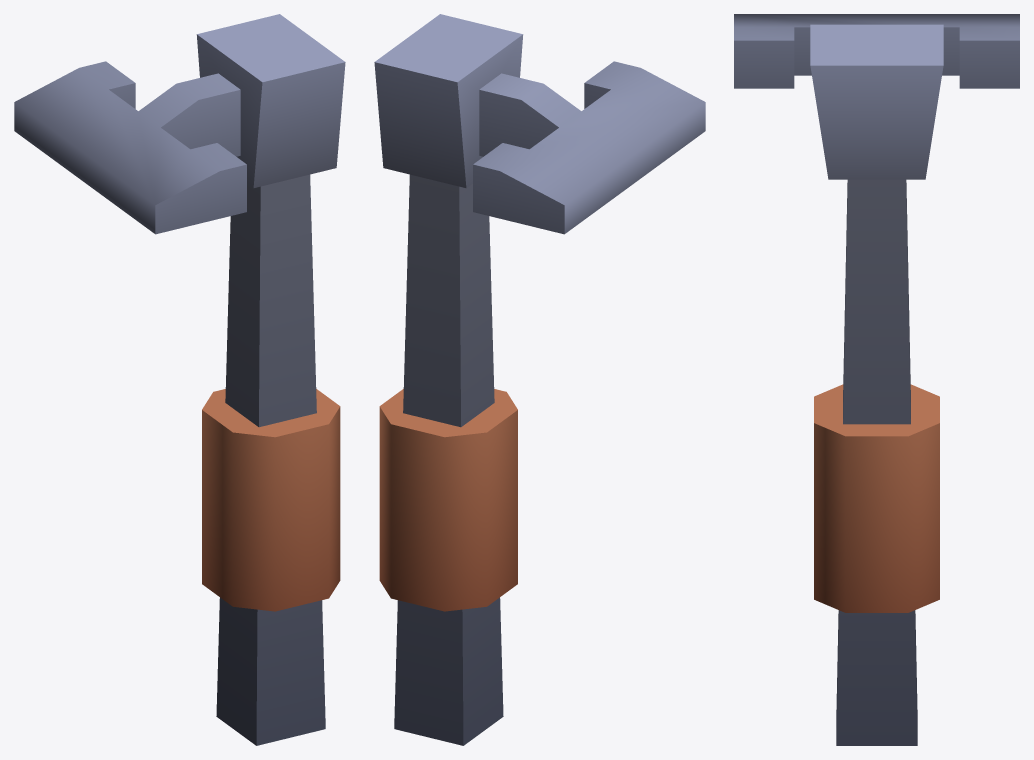
The model's file is tool-hoe-upgraded.glb.
3 views of the same model, side by side, from view 1: azimuth 30°, elevation 25°; view 2: azimuth 150°, elevation 25°; view 3: azimuth 270°, elevation 25° (orthographic).
Parts seen in each view (by area): view 1: tool-hoe-upgraded; view 2: tool-hoe-upgraded; view 3: tool-hoe-upgraded.
Part boxes in pixels (x1,y1,x2,y2): tool-hoe-upgraded: (14,14,345,745); tool-hoe-upgraded: (374,14,705,745); tool-hoe-upgraded: (734,14,1019,745).
Size of the model in its own units: 0.0893 by 0.24 by 0.0909.
